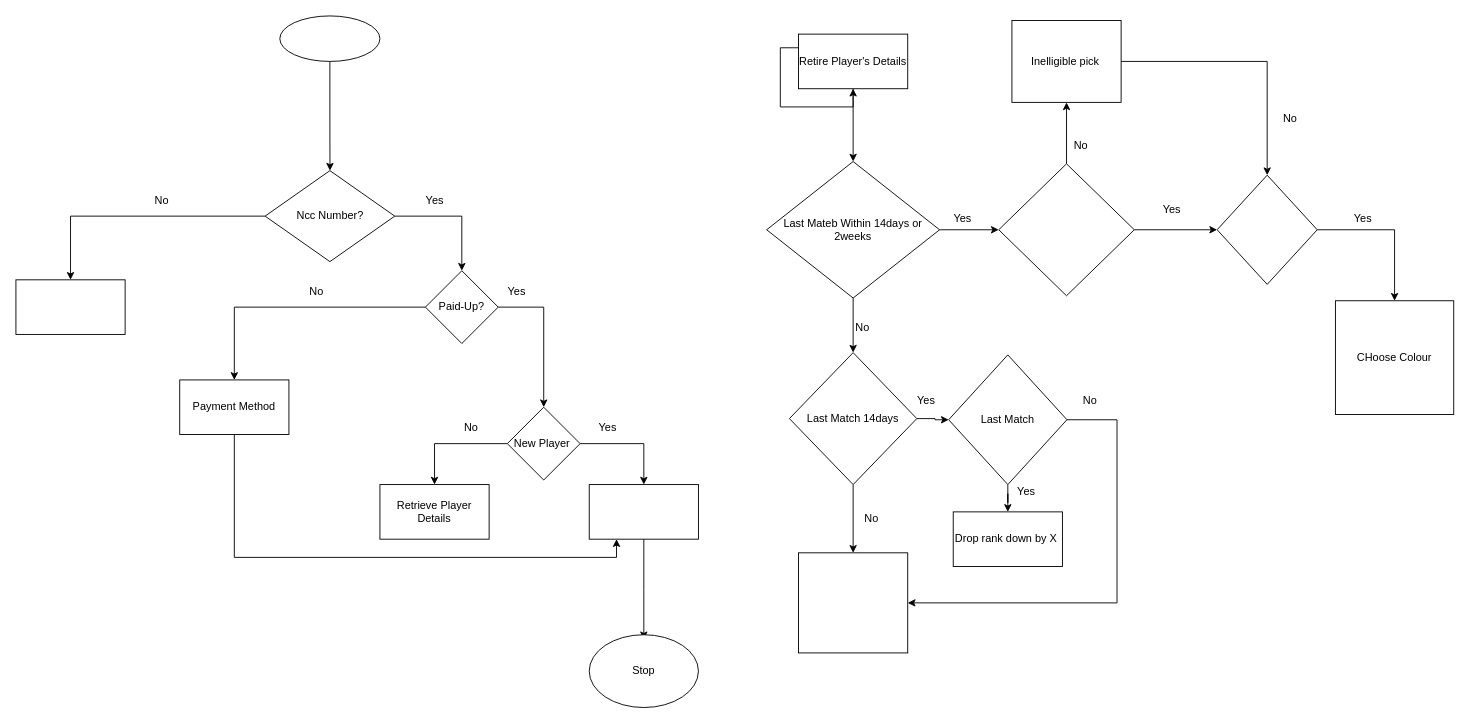
The diagram is 1470 pixels wide and 723 high, and some of its shapes have lost their labels. Here are the shapes that lost their labels. From the top down, the box of each, then its label:
(279, 15, 380, 61): start
(998, 163, 1134, 296): Challenger atmost 5 ranks above challenger?
(1216, 174, 1317, 284): Last Meetup 2
(15, 279, 125, 334): Registration Form
(588, 484, 698, 539): Rank Bottom
(798, 552, 908, 653): Drop one rank down
